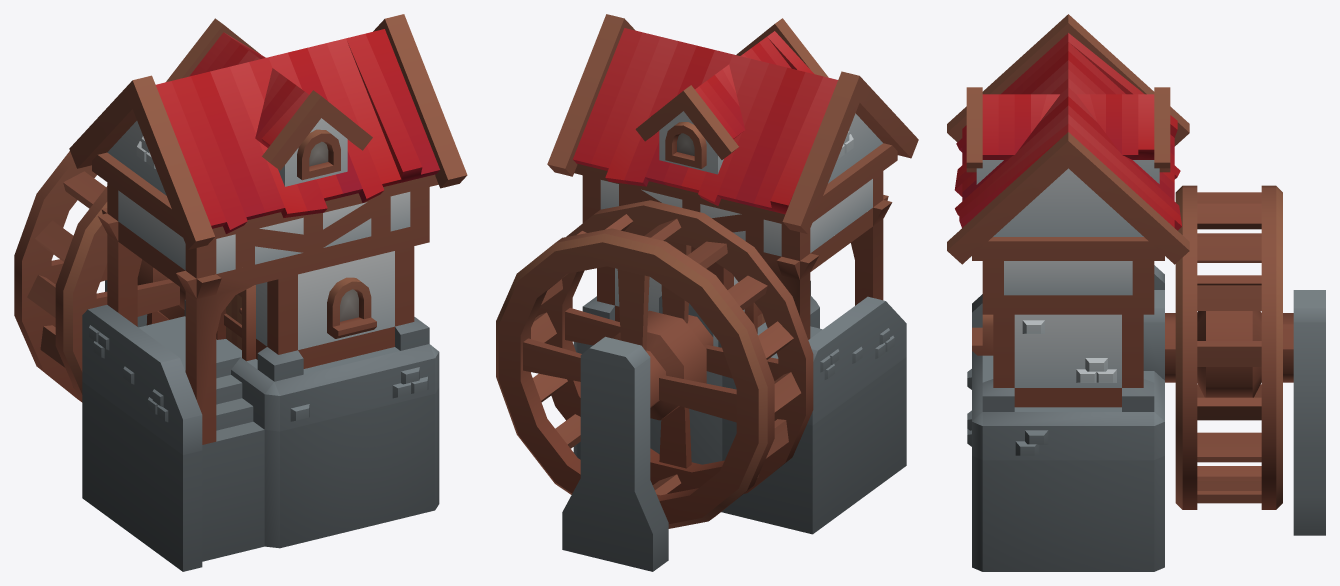
Rendered from medieval-watermill.glb.
3 views of the same model, side by side, from view 1: azimuth 30°, elevation 25°; view 2: azimuth 150°, elevation 25°; view 3: azimuth 270°, elevation 25° (orthographic). The views are drawn at different scales.
Parts seen in each view (by area): view 1: building_watermill_red, building_watermill_wheel_red; view 2: building_watermill_red, building_watermill_wheel_red; view 3: building_watermill_red, building_watermill_wheel_red.
Part boxes in pixels (x1,y1,x2,y2): building_watermill_red: (69,14,467,571); building_watermill_wheel_red: (14,151,185,402); building_watermill_red: (547,14,918,571); building_watermill_wheel_red: (496,200,813,528); building_watermill_red: (947,14,1325,571); building_watermill_wheel_red: (1165,185,1293,509).
Bounding box in the file's own units: 1.05 × 1.57 × 1.24.
